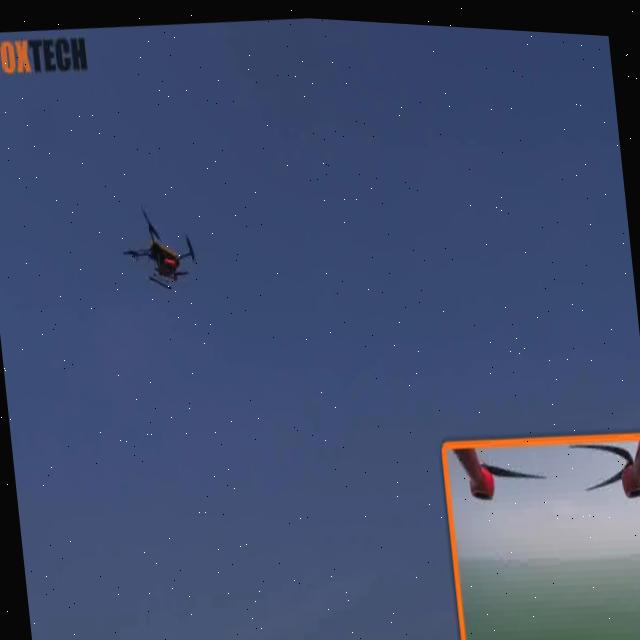drone: (112, 193, 208, 307)
